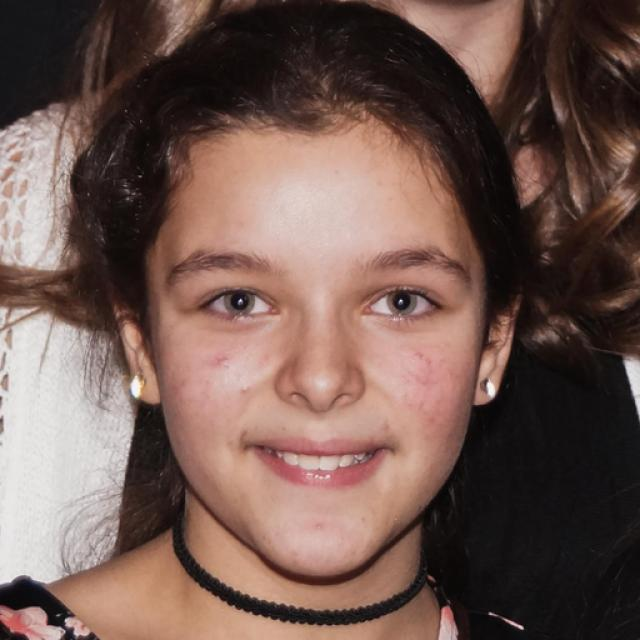Acne: (206, 349, 242, 377), (229, 378, 253, 402)
Pigmentation: (402, 357, 463, 435)
